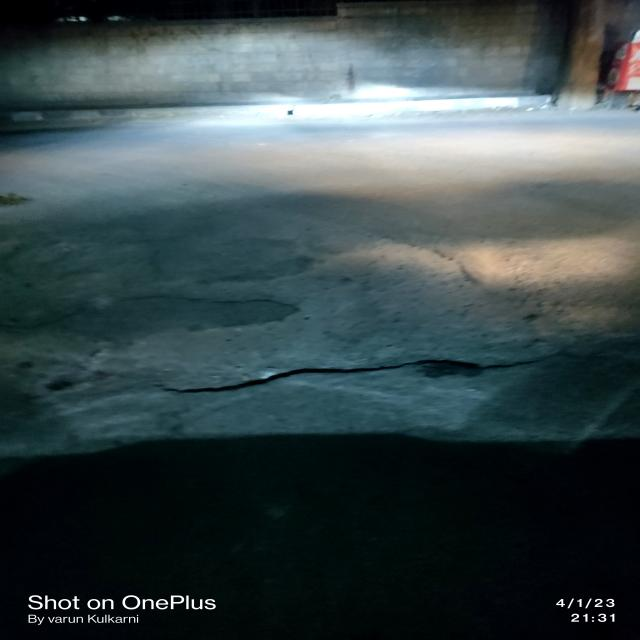potholes: (30, 233, 582, 398)
